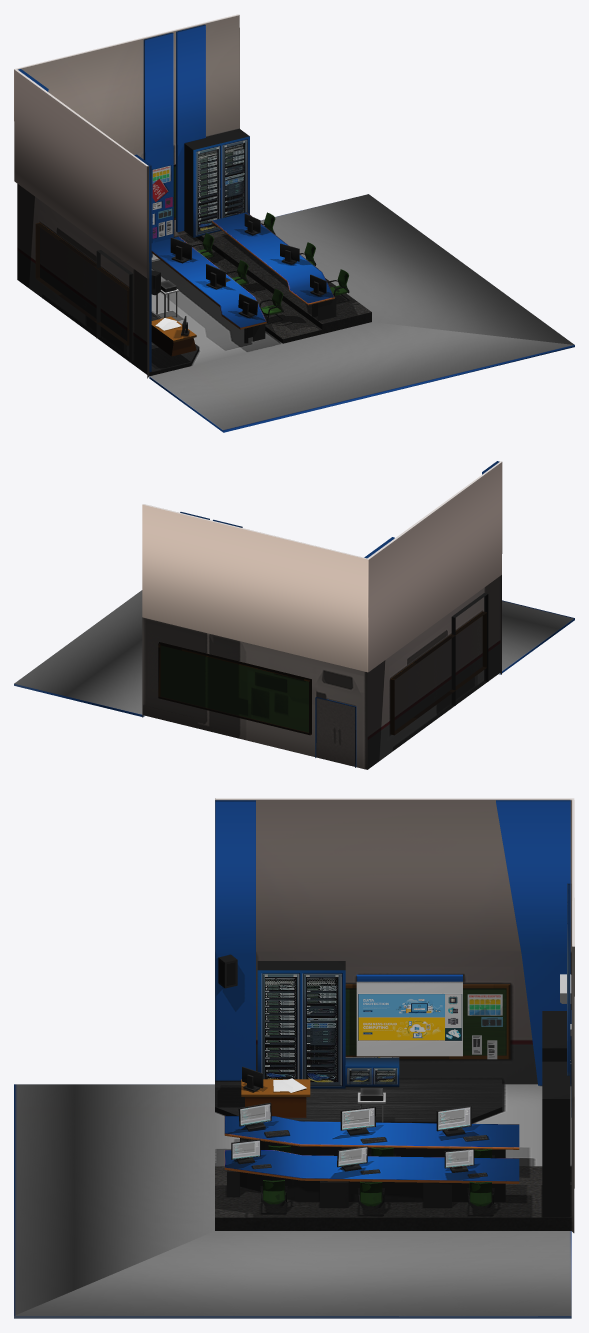
File: Tx_Interior_Education_Computing_20170727.fbx
3 views of the same model, one above another, from view 1: azimuth 30°, elevation 25°; view 2: azimuth 150°, elevation 25°; view 3: azimuth 270°, elevation 25° (orthographic). The views are drawn at different scales.
Visible parts, largest first — view 1: Tx_Interior_Education_Computing; view 2: Tx_Interior_Education_Computing; view 3: Tx_Interior_Education_Computing.
Part boxes in pixels (box(x1,y1,x2,y2)): Tx_Interior_Education_Computing: box(14, 14, 574, 432); Tx_Interior_Education_Computing: box(14, 461, 574, 769); Tx_Interior_Education_Computing: box(14, 798, 574, 1318).
Bounding box in the file's own units: 82.91 × 47.32 × 83.76.
